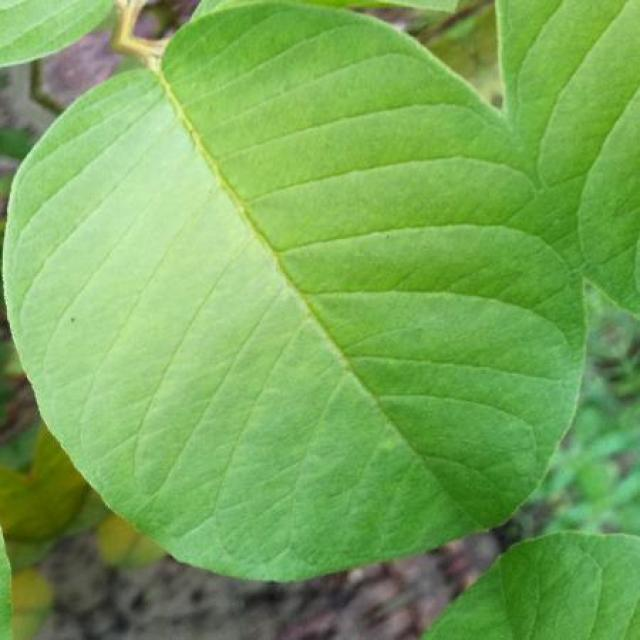Disease Free: (0, 0, 640, 579), (425, 534, 640, 639)
